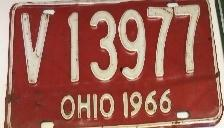1: (63, 10, 87, 84)
3: (87, 8, 119, 83)
7: (172, 3, 205, 77), (146, 5, 177, 79)
9: (118, 9, 149, 83)
V: (18, 10, 57, 88)
